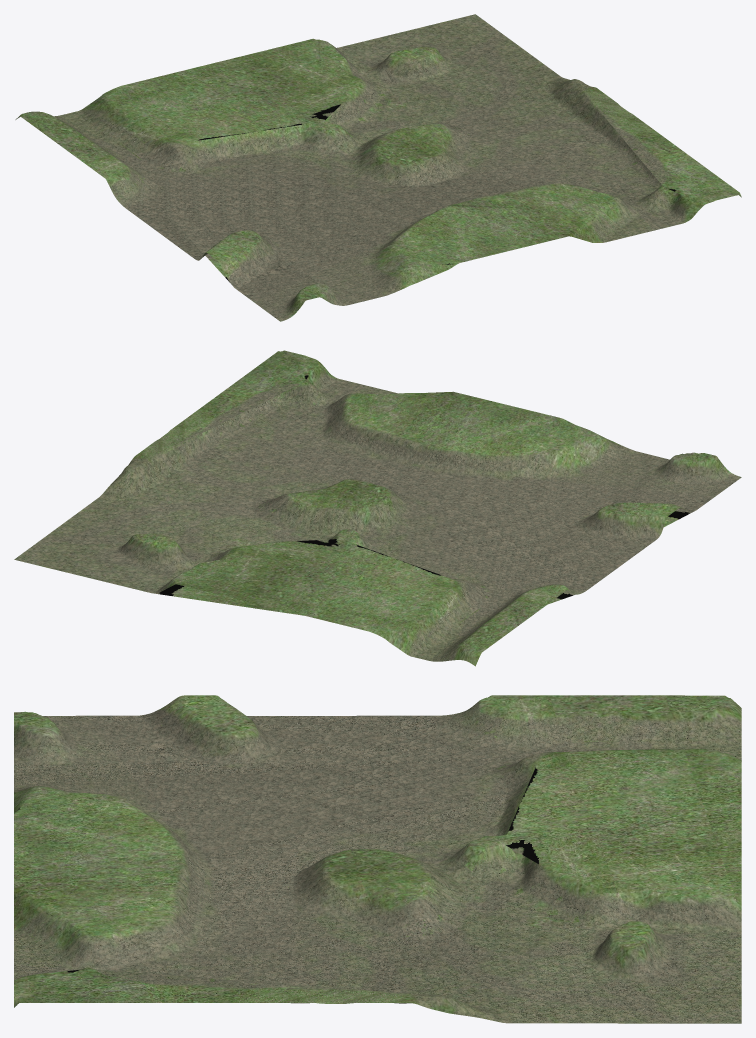
Rendered from vasamodel_tuned_textured.fbx.
3 renders of one model, top to bottom at view 1: azimuth 30°, elevation 25°; view 2: azimuth 150°, elevation 25°; view 3: azimuth 270°, elevation 25°, orthographic. The views are drawn at different scales.
Parts seen in each view (by area): view 1: Plane; view 2: Plane; view 3: Plane.
Boxes of the visible parts, left/top/right/bottom form: Plane: left=15, top=14, right=741, bottom=321; Plane: left=14, top=350, right=741, bottom=666; Plane: left=14, top=695, right=741, bottom=1023.
Size of the model in its own units: 3204 by 101 by 3204.
